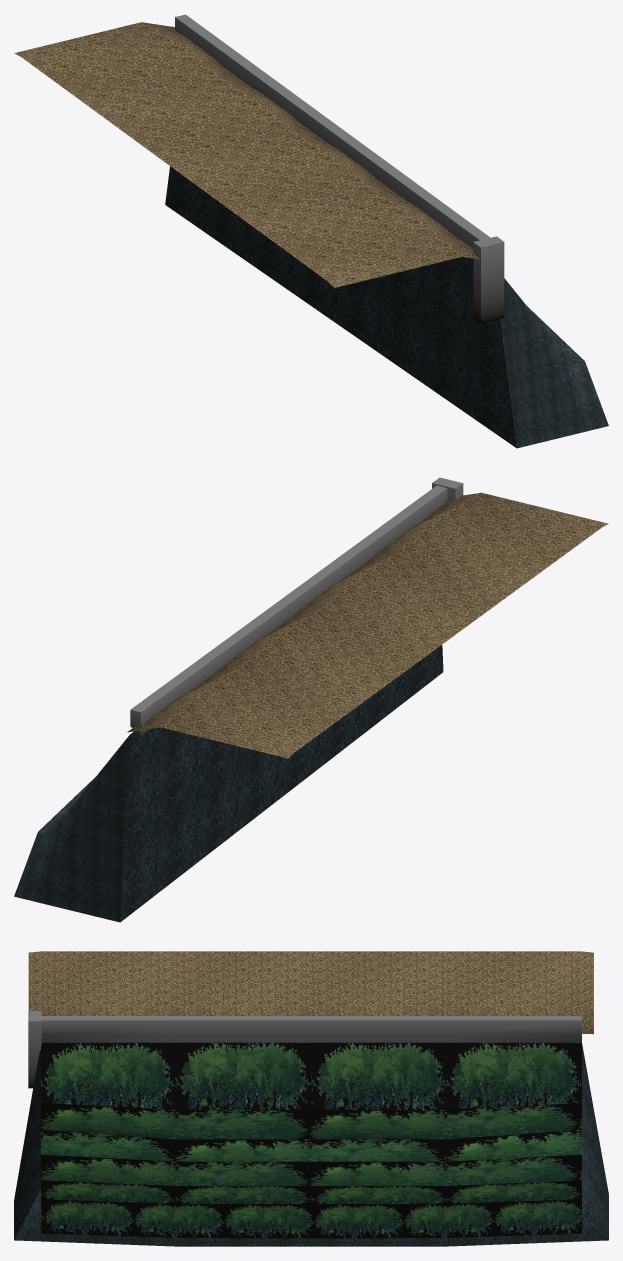
File: BIWA_00_L.glb
3 views of the same model, one above another, from view 1: azimuth 30°, elevation 25°; view 2: azimuth 150°, elevation 25°; view 3: azimuth 270°, elevation 25° (orthographic). The views are drawn at different scales.
Visible parts, largest first — view 1: Model; view 2: Model; view 3: Model.
Boxes of the visible parts, left/top/right/bottom form: Model: left=14, top=14, right=608, bottom=448; Model: left=14, top=477, right=608, bottom=922; Model: left=14, top=951, right=608, bottom=1246.
Bounding box in the file's own units: 53.37 × 36.27 × 110.
Materials: 5 (5 with a texture image).
